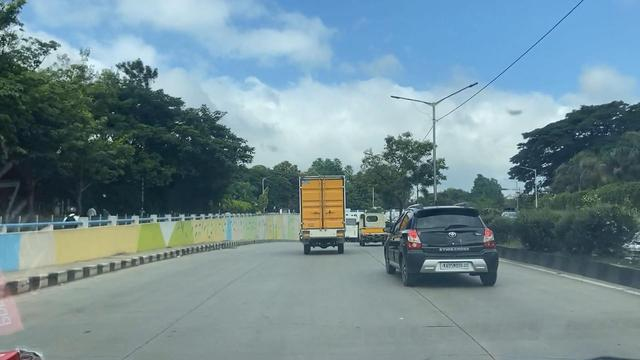HMV: (299, 177, 345, 253)
LMV: (390, 209, 498, 288)
